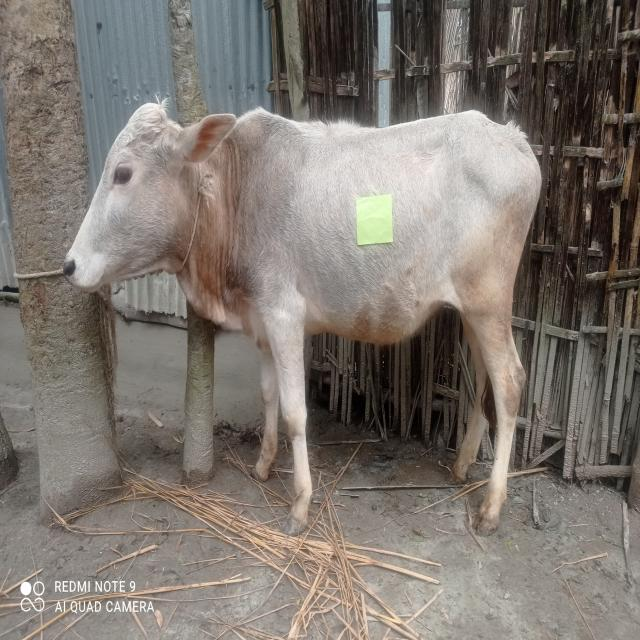badan_sapi: (257, 122, 518, 334)
sapi: (62, 94, 554, 539)
